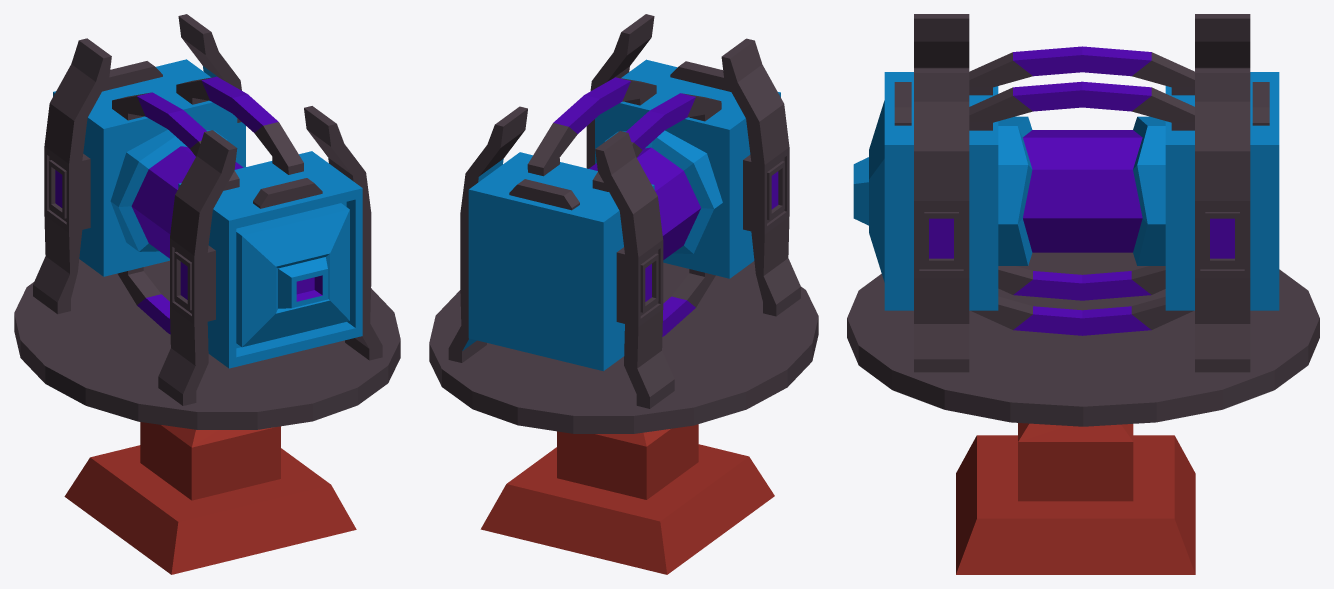
The model's file is FREEZE_TOWER.fbx.
3 views of the same model, side by side, from view 1: azimuth 30°, elevation 25°; view 2: azimuth 150°, elevation 25°; view 3: azimuth 270°, elevation 25° (orthographic). The views are drawn at different scales.
Visible parts, largest first — view 1: ROTATING_PART, FIXED_PART; view 2: ROTATING_PART, FIXED_PART; view 3: ROTATING_PART, FIXED_PART.
Part boxes in pixels (x1,y1,x2,y2): ROTATING_PART: (14,14,400,429); FIXED_PART: (64,422,356,574); ROTATING_PART: (429,14,818,433); FIXED_PART: (480,424,774,574); ROTATING_PART: (847,14,1319,426); FIXED_PART: (956,423,1195,574).
Size of the model in its own units: 249 by 315 by 280.
